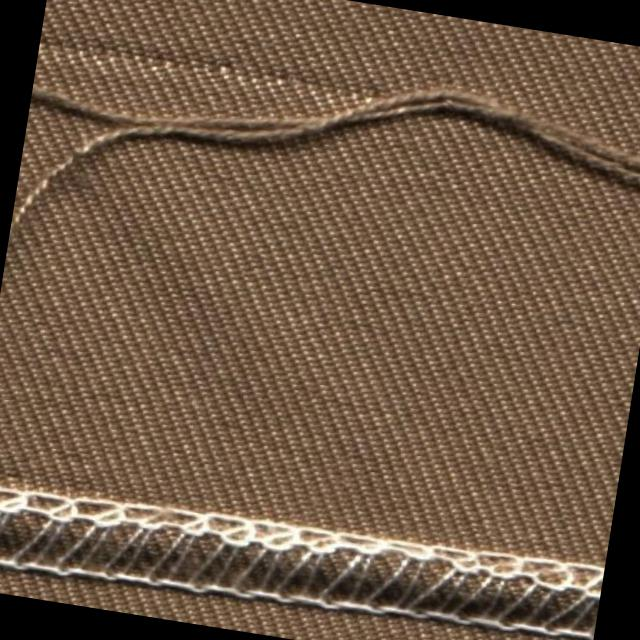gray stitch: (0, 458, 606, 640)
